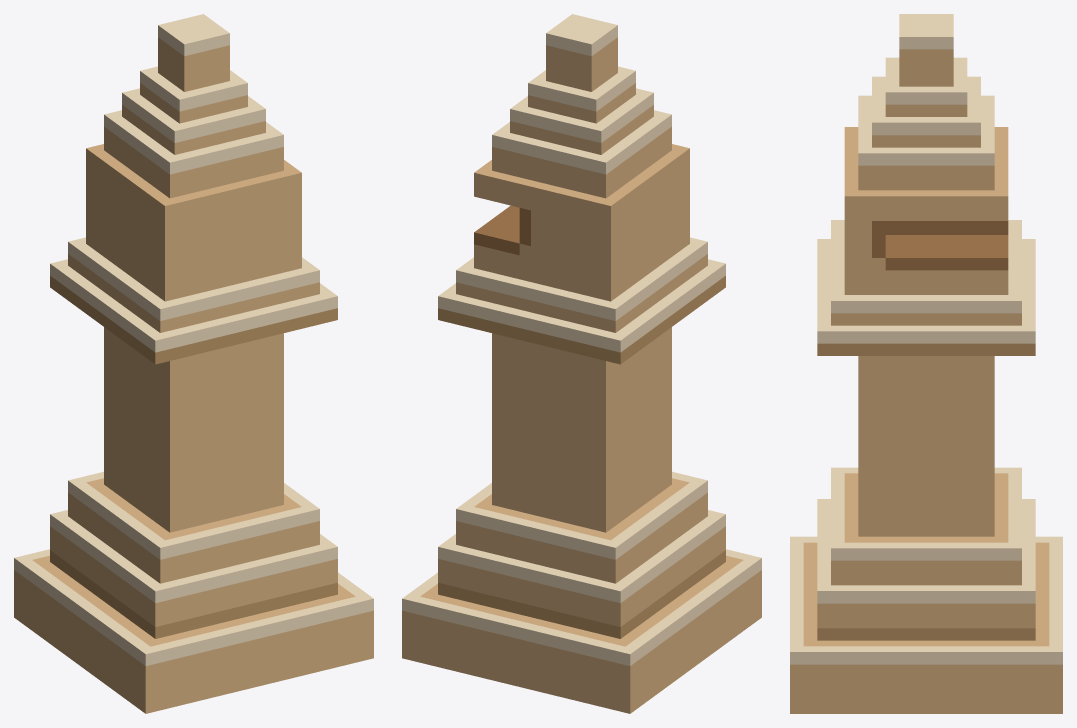
The model's file is bishop_white.obj.
3 renders of one model, left to right at view 1: azimuth 30°, elevation 25°; view 2: azimuth 150°, elevation 25°; view 3: azimuth 270°, elevation 25°, orthographic. The views are drawn at different scales.
Visible parts, largest first — view 1: bishop_white; view 2: bishop_white; view 3: bishop_white.
Boxes of the visible parts, x1,y1,x2,y2 form: bishop_white: [14, 14, 373, 713]; bishop_white: [402, 14, 761, 713]; bishop_white: [790, 14, 1062, 713].
Bounding box in the file's own units: 0.42 × 1.07 × 0.42.
Materials: 1 (1 with a texture image).
